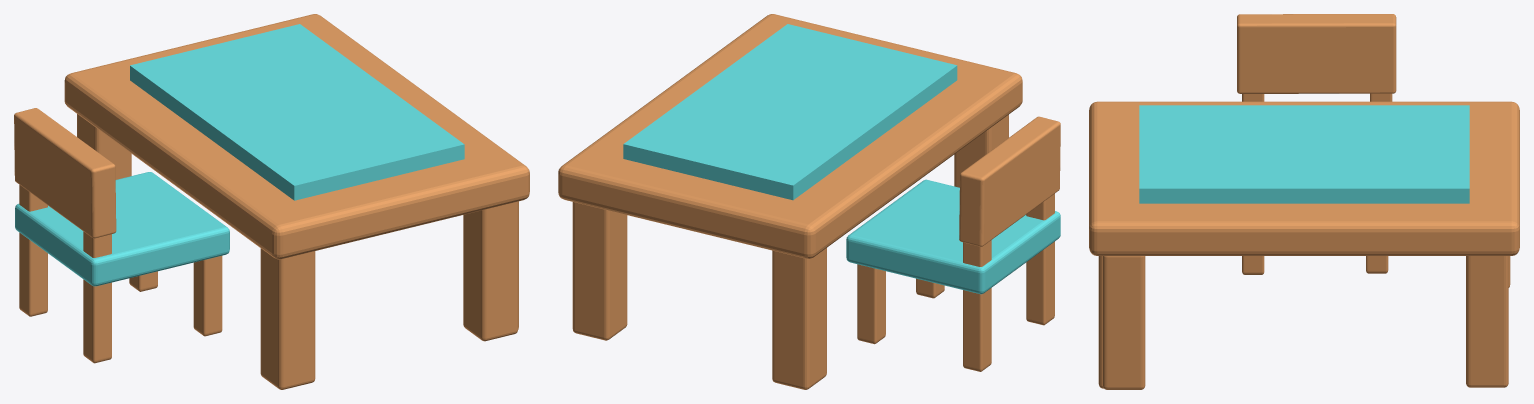
The picture shows the model from 3 angles, left to right: view 1: azimuth 30°, elevation 25°; view 2: azimuth 150°, elevation 25°; view 3: azimuth 270°, elevation 25°; orthographic projection.
Parts seen in each view (by area): view 1: Cube, Cube.006, Cube.007, Cube.003, Cube.001, Cube.010, Cube.011, Cube.009, Cube.005; view 2: Cube, Cube.006, Cube.007, Cube.005, Cube.004, Cube.011, Cube.010, Cube.008, Cube.003; view 3: Cube, Cube.007, Cube.002, Cube.004, Cube.001, Cube.009, Cube.008.
Part boxes in pixels (<box>): Cube: <box>64,14,529,259</box>; Cube.006: <box>15,172,229,286</box>; Cube.007: <box>14,108,116,238</box>; Cube.003: <box>260,248,315,389</box>; Cube.001: <box>463,201,517,341</box>; Cube.010: <box>83,231,111,363</box>; Cube.011: <box>19,185,47,316</box>; Cube.009: <box>193,256,222,336</box>; Cube.005: <box>77,114,131,179</box>; Cube: <box>558,14,1022,258</box>; Cube.006: <box>846,179,1060,294</box>; Cube.007: <box>959,116,1060,246</box>; Cube.005: <box>772,248,826,389</box>; Cube.004: <box>572,202,627,340</box>; Cube.011: <box>963,240,991,371</box>; Cube.010: <box>1026,193,1054,325</box>; Cube.008: <box>857,264,885,344</box>; Cube.003: <box>954,114,1008,187</box>; Cube: <box>1089,101,1519,255</box>; Cube.007: <box>1237,14,1396,93</box>; Cube.002: <box>1103,256,1145,389</box>; Cube.004: <box>1466,256,1508,387</box>; Cube.001: <box>1098,256,1103,388</box>; Cube.009: <box>1242,256,1264,274</box>; Cube.008: <box>1366,256,1388,273</box>.
Size of what is drawn, in the model's own units: 3.73 by 1.95 by 3.78.
